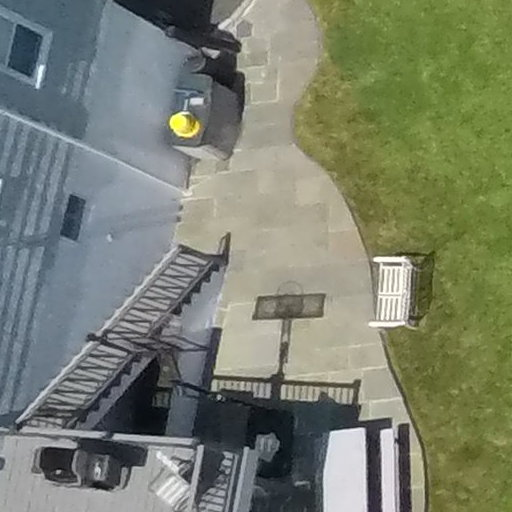bucket: (167, 110, 203, 142)
